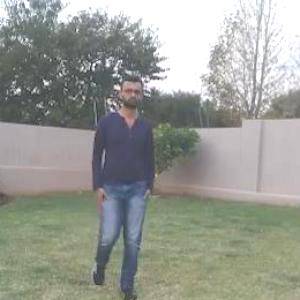follow: (94, 82, 154, 284)
